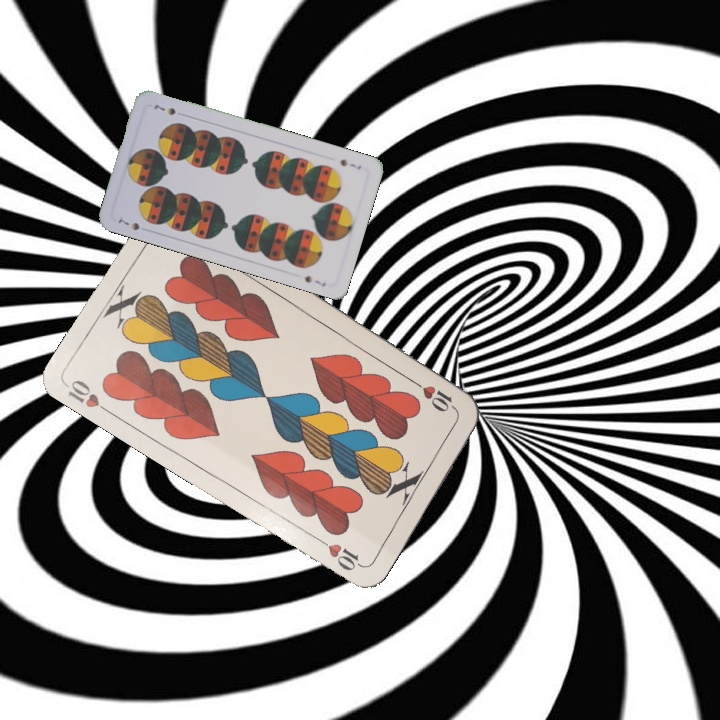H10: (62, 375, 115, 418), (407, 375, 460, 414)
S7: (114, 214, 142, 233), (336, 155, 364, 172)
